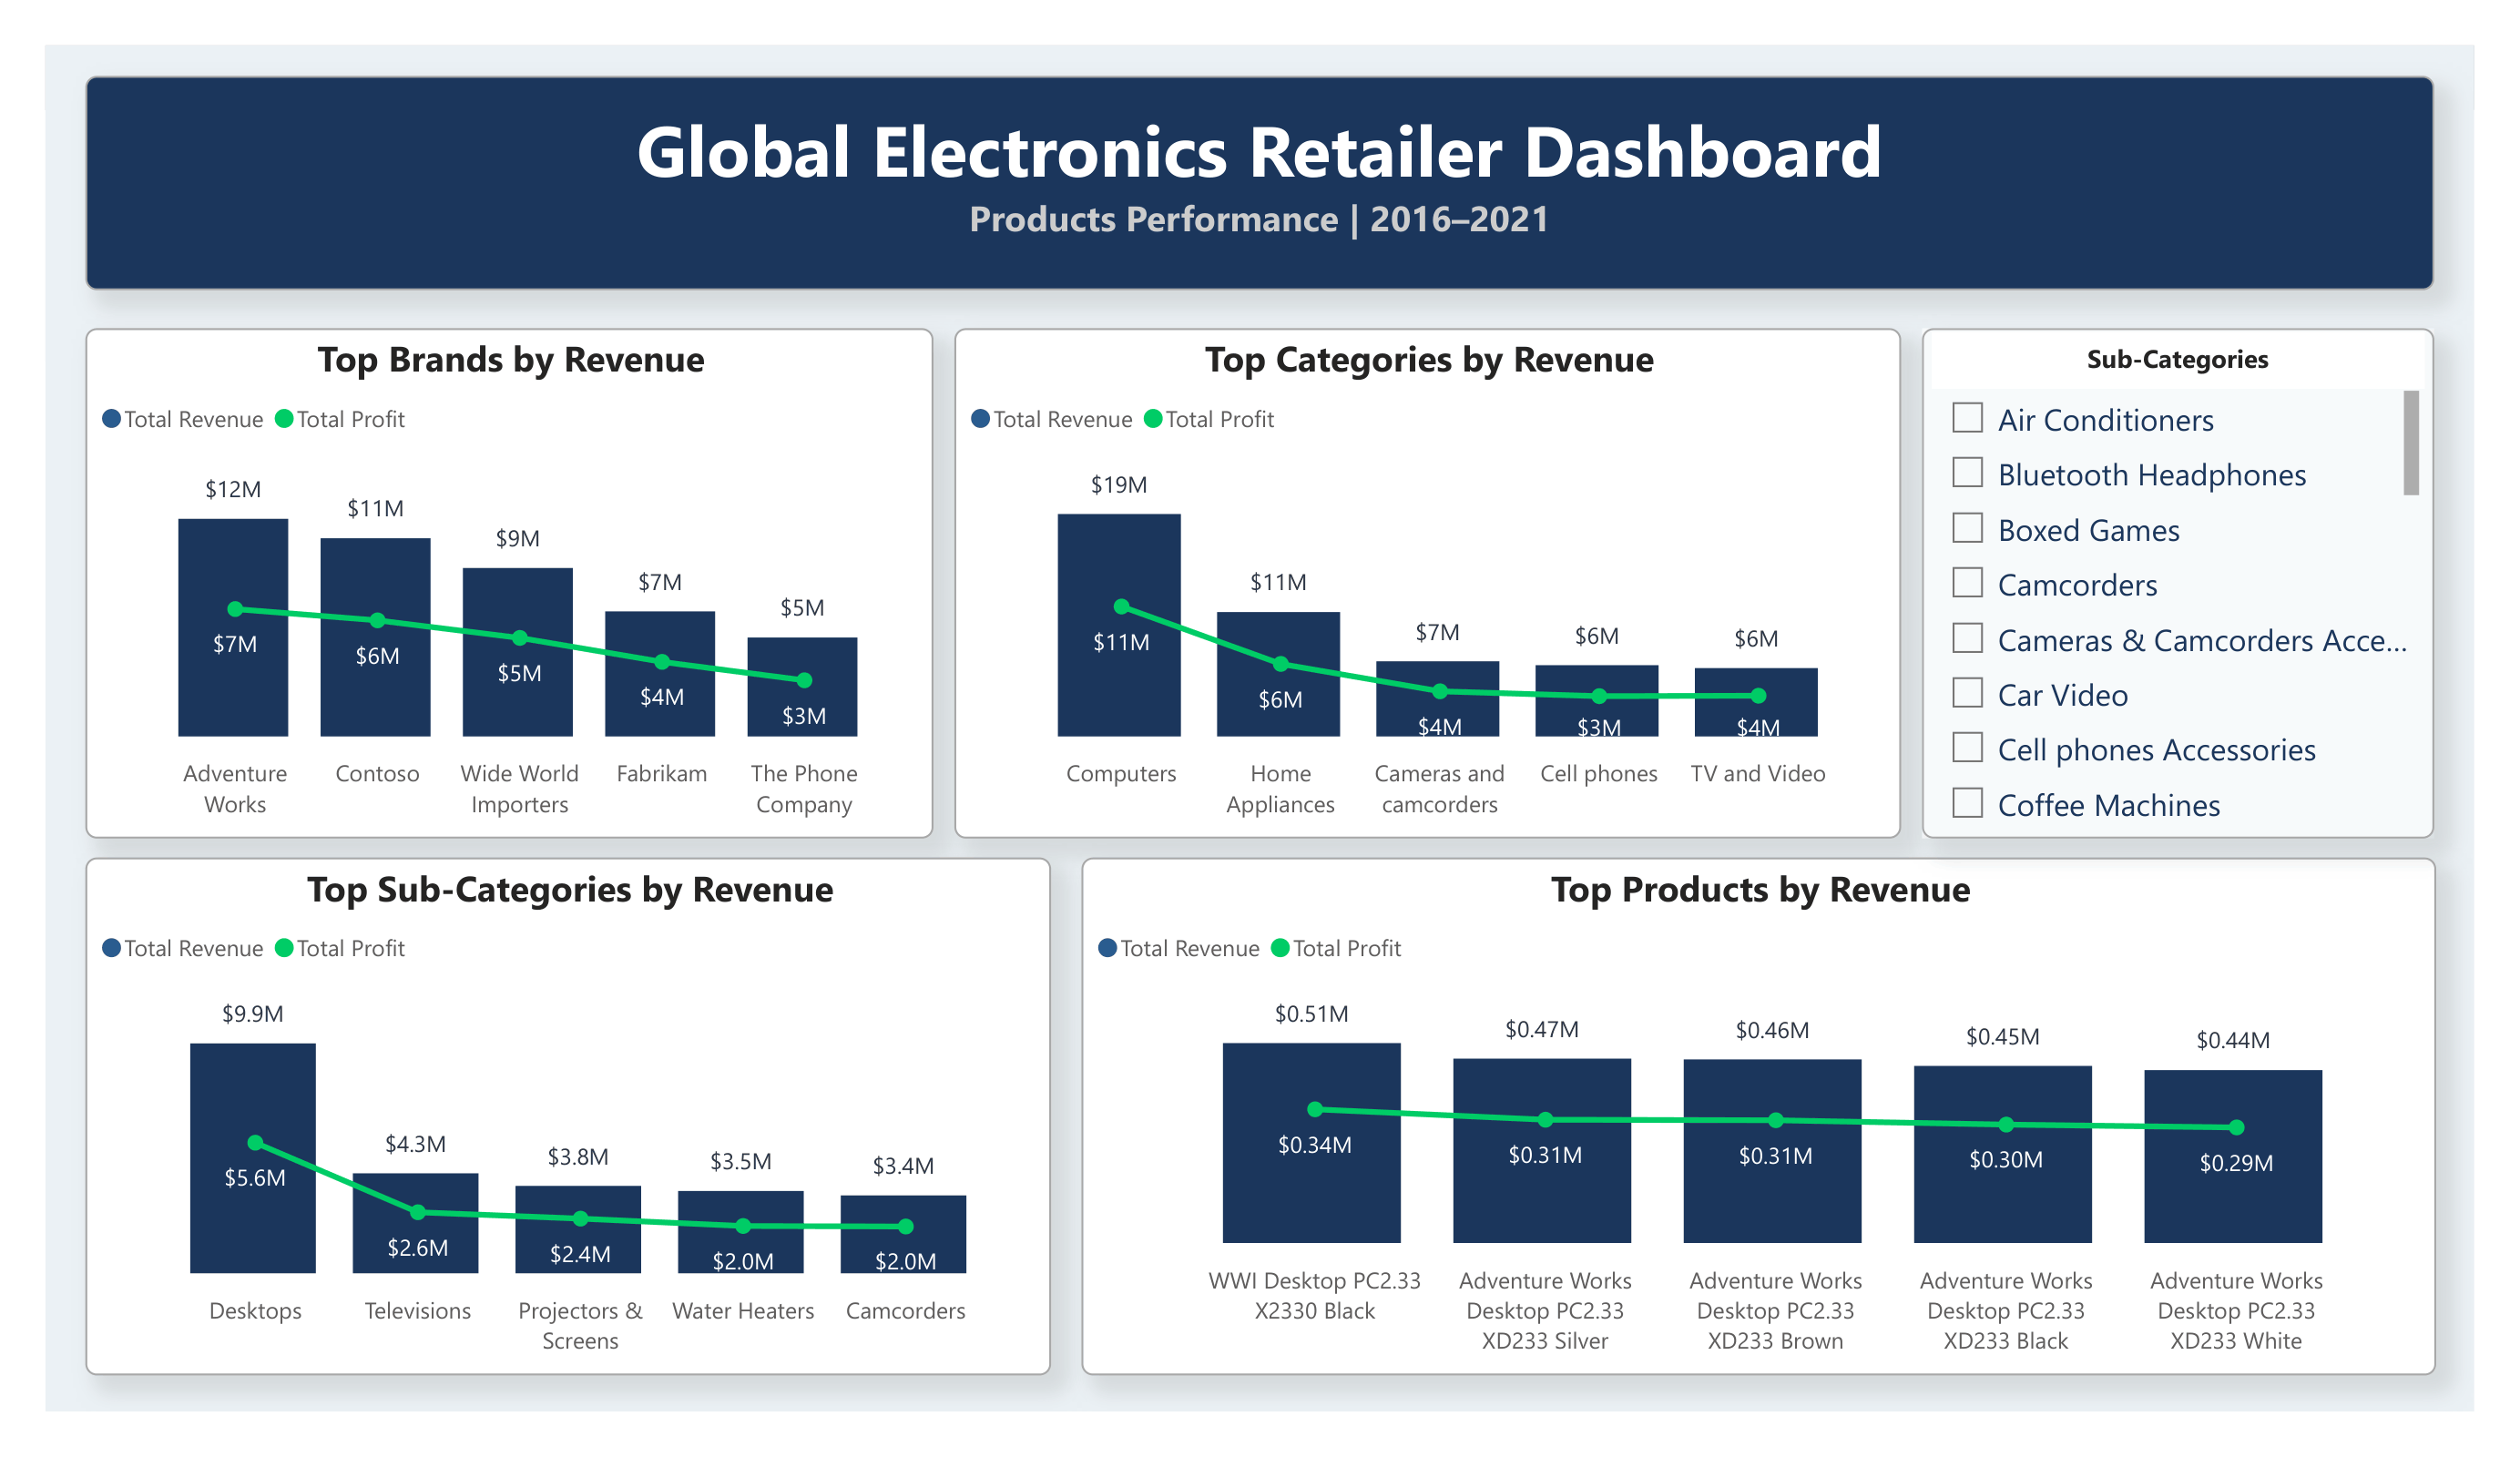

The dashboard page shown, as its layout file describes it:
{"tool":"powerbi","page":{"name":"Product","canvas":[1280,720],"ordinal":1},"visuals":[{"type":"lineClusteredColumnComboChart","title":"Top Brands by Revenue","fields":{"Category":["Sales Analytics.brand"],"Y":["Sales Analytics.Total Revenue"],"Y2":["Sales Analytics.Total Profit"]},"box":[21.2,148.8,446.2,268.8],"z":0},{"type":"lineClusteredColumnComboChart","title":"Top Categories by Revenue","fields":{"Category":["Sales Analytics.category"],"Y":["Sales Analytics.Total Revenue"],"Y2":["Sales Analytics.Total Profit"]},"box":[478.8,148.8,498.8,268.8],"z":1000},{"type":"lineClusteredColumnComboChart","title":"Top Sub-Categories by Revenue","fields":{"Category":["Sales Analytics.sub_category"],"Y":["Sales Analytics.Total Revenue"],"Y2":["Sales Analytics.Total Profit"]},"box":[21.2,427.5,508.8,273.8],"z":2000},{"type":"lineClusteredColumnComboChart","title":"Top Products by Revenue","fields":{"Category":["Sales Analytics.product_name"],"Y":["Sales Analytics.Total Revenue"],"Y2":["Sales Analytics.Total Profit"]},"box":[546.2,427.5,713.8,273.8],"z":3000},{"type":"slicer","fields":{"Values":["Sales Analytics.sub_category"]},"box":[988.8,148.8,270,268.8],"z":4000,"group":"g1"},{"type":"textbox","box":[21.4,15.7,1237.1,112.9],"z":5000},{"type":"textbox","box":[993.8,151.1,259.5,29.3],"z":6000,"group":"g1"},{"type":"group","id":"g1","title":"Group 1","box":[988.8,148.8,270,268.8],"z":6001}]}

Visuals, with their boxes on the page's 1280x720 design canvas (x1, y1, x2, y2). These are canvas units, not pixel positions in the 2520x1457 screenshot, which may show the page scaled, cropped or inside an application window:
"Top Brands by Revenue" lineClusteredColumnComboChart: rect(21, 149, 467, 418)
"Top Categories by Revenue" lineClusteredColumnComboChart: rect(479, 149, 978, 418)
"Top Sub-Categories by Revenue" lineClusteredColumnComboChart: rect(21, 428, 530, 701)
"Top Products by Revenue" lineClusteredColumnComboChart: rect(546, 428, 1260, 701)
slicer - Sales Analytics.sub_category: rect(989, 149, 1259, 418)
textbox: rect(21, 16, 1258, 129)
textbox: rect(994, 151, 1253, 180)
"Group 1" group: rect(989, 149, 1259, 418)
